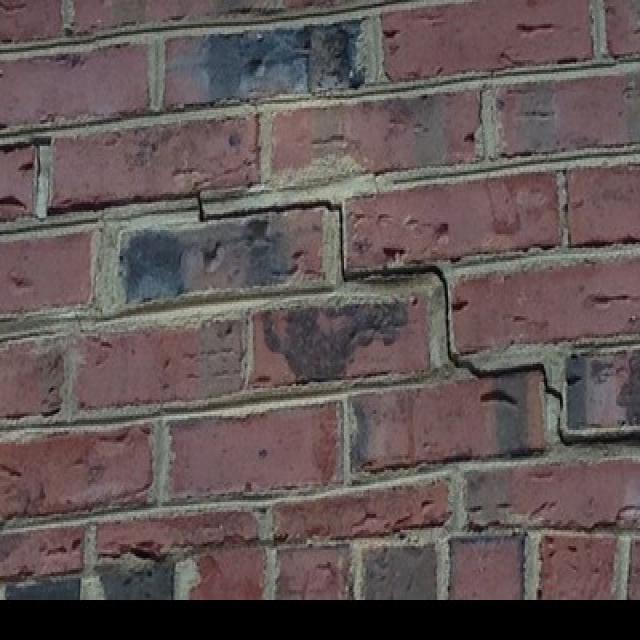Crack: (1, 136, 638, 448)
